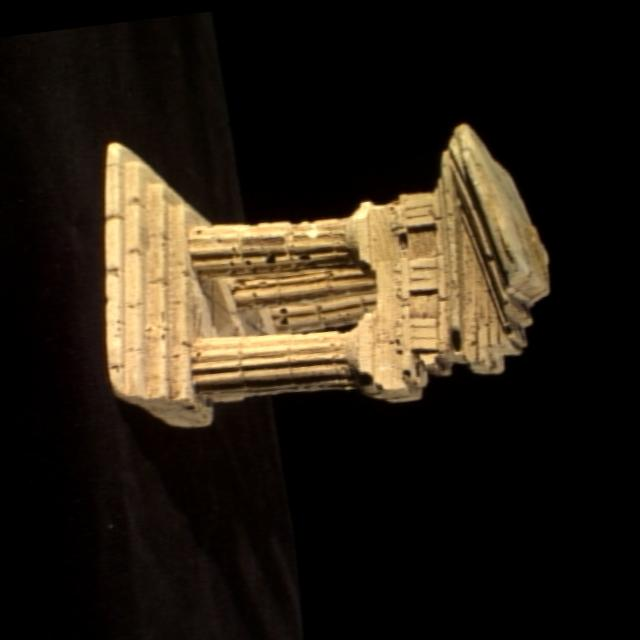Instance-Segmentation: (104, 124, 547, 425)
